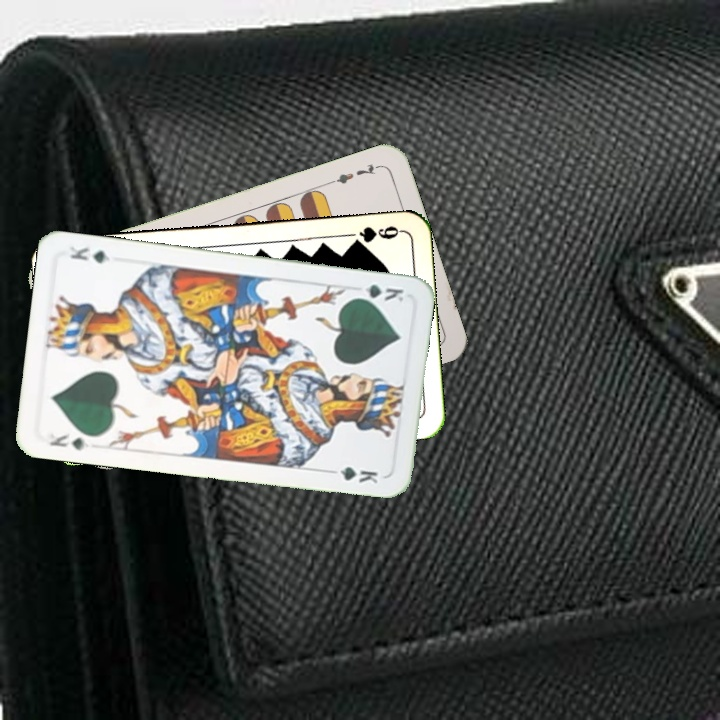E7: (325, 159, 383, 187)
G9: (346, 222, 404, 249)
GK: (349, 280, 406, 306), (41, 429, 93, 453)
